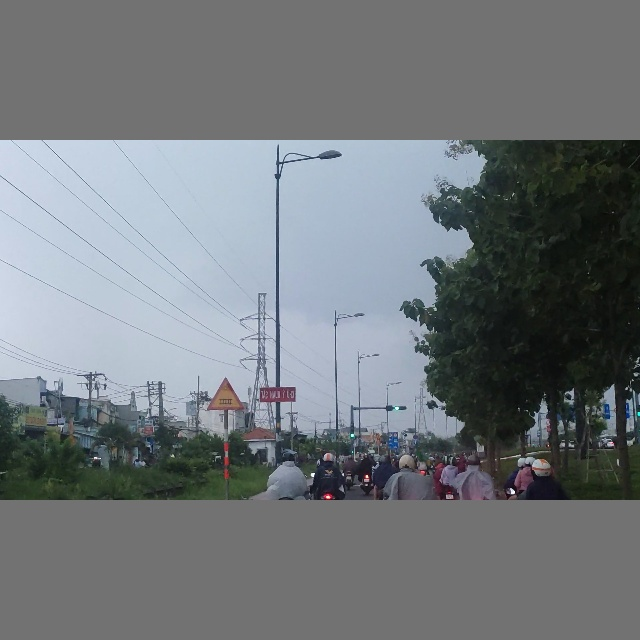I.407a: (413, 440, 418, 445)
W.210: (208, 378, 245, 411)
